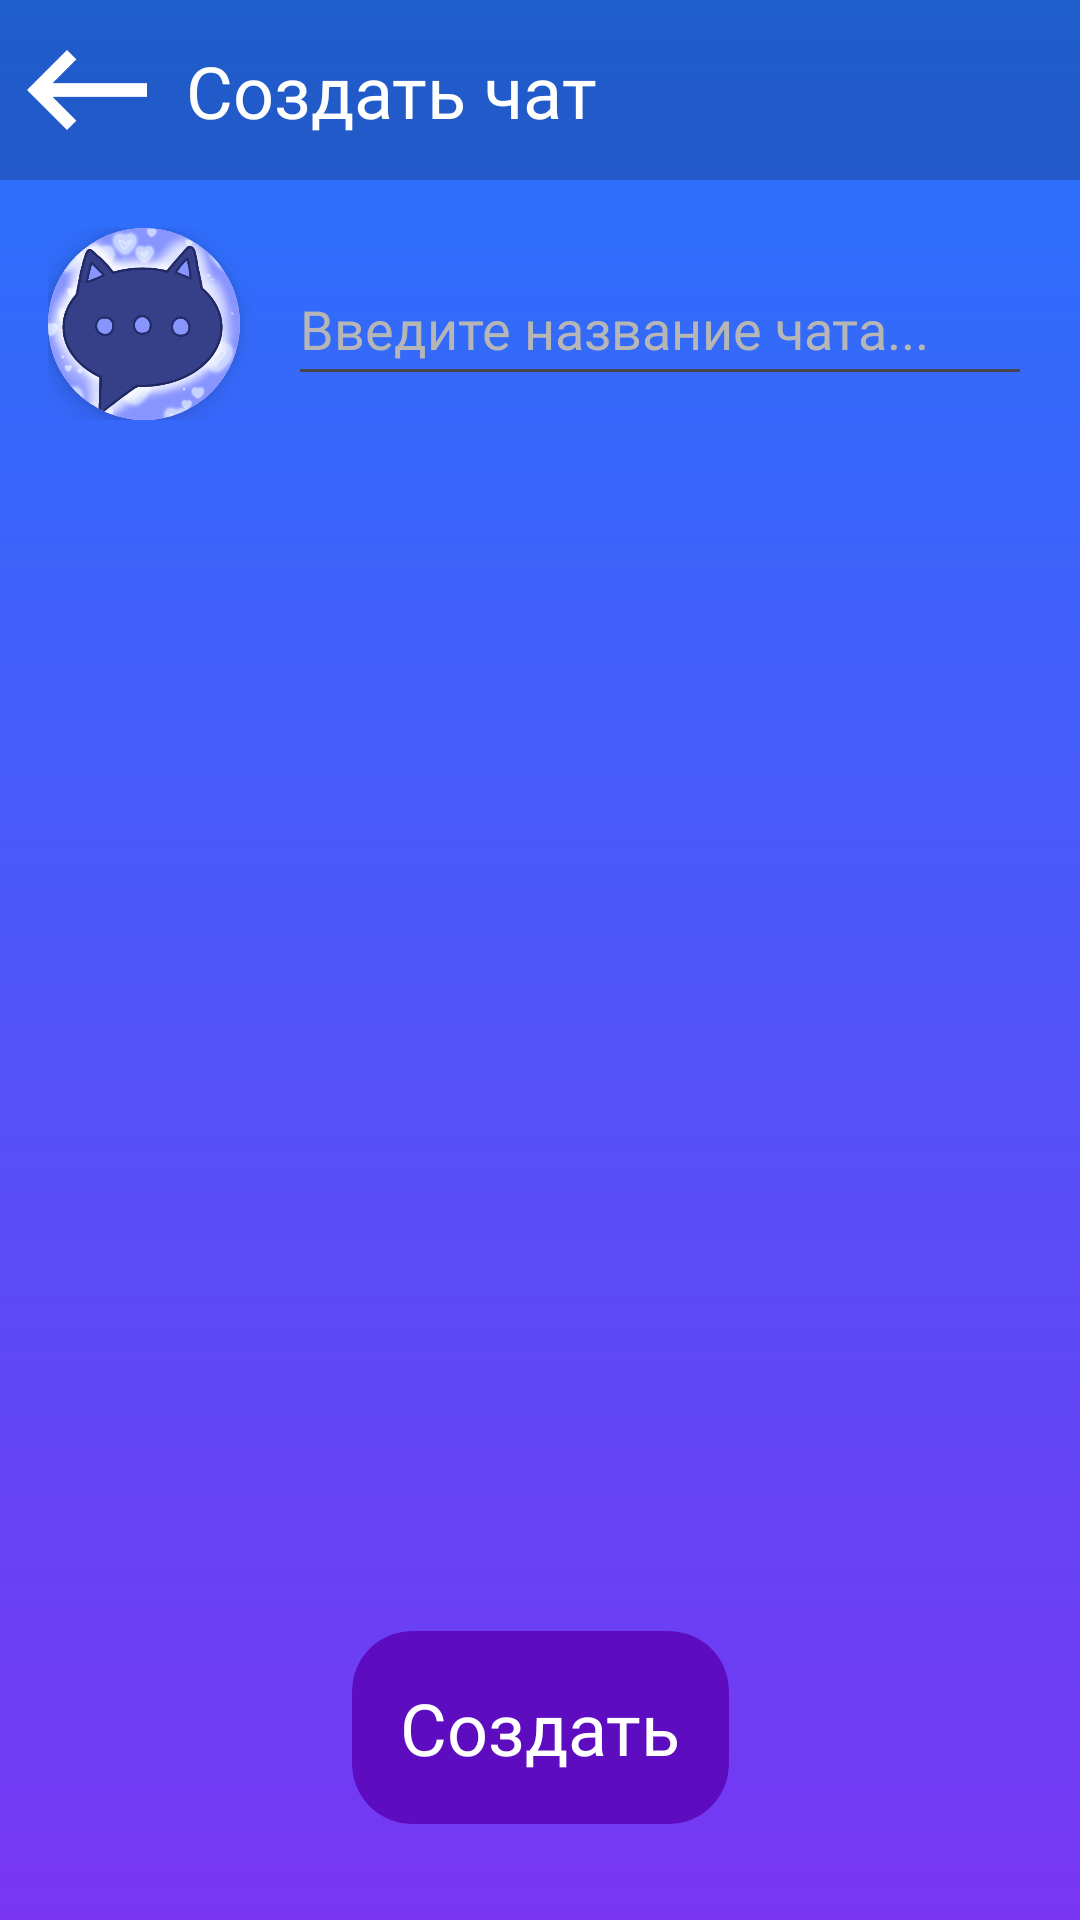

Locate icon controls on the screen. Image size 1080w x 1920h, boxes as (x1, y1, x2, y2).
back: (27, 50, 147, 130)
